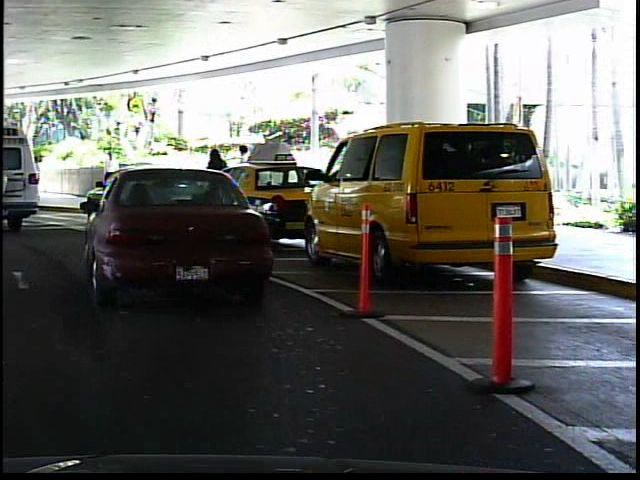person: (201, 142, 234, 208), (236, 139, 262, 209), (100, 145, 123, 204), (26, 154, 47, 199)
